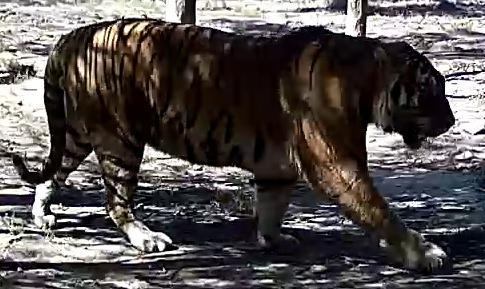tiger: (12, 1, 454, 270)
